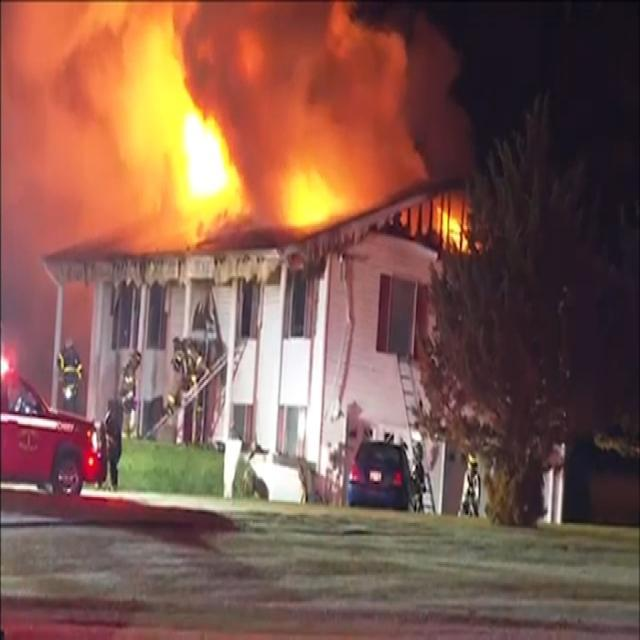Fire: (105, 22, 254, 238)
Smoke: (12, 9, 476, 170)
